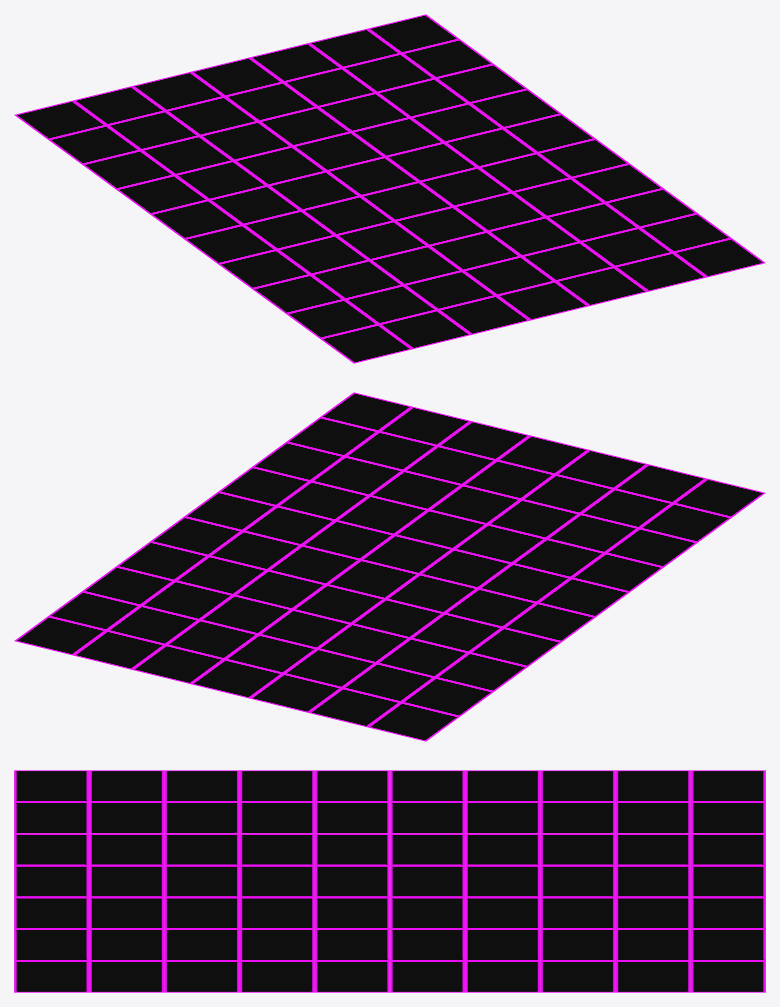
Rendered from SynthwaveTerrain_Plane.glb.
3 views of the same model, one above another, from view 1: azimuth 30°, elevation 25°; view 2: azimuth 150°, elevation 25°; view 3: azimuth 270°, elevation 25° (orthographic). The views are drawn at different scales.
Visible parts, largest first — view 1: Terrain Plane; view 2: Terrain Plane; view 3: Terrain Plane.
Part boxes in pixels (<box>): Terrain Plane: <box>14,14,765,363</box>; Terrain Plane: <box>14,392,765,741</box>; Terrain Plane: <box>14,770,765,992</box>.
Bounding box in the file's own units: 7 × 0 × 10.
1 material, 1 textured.
